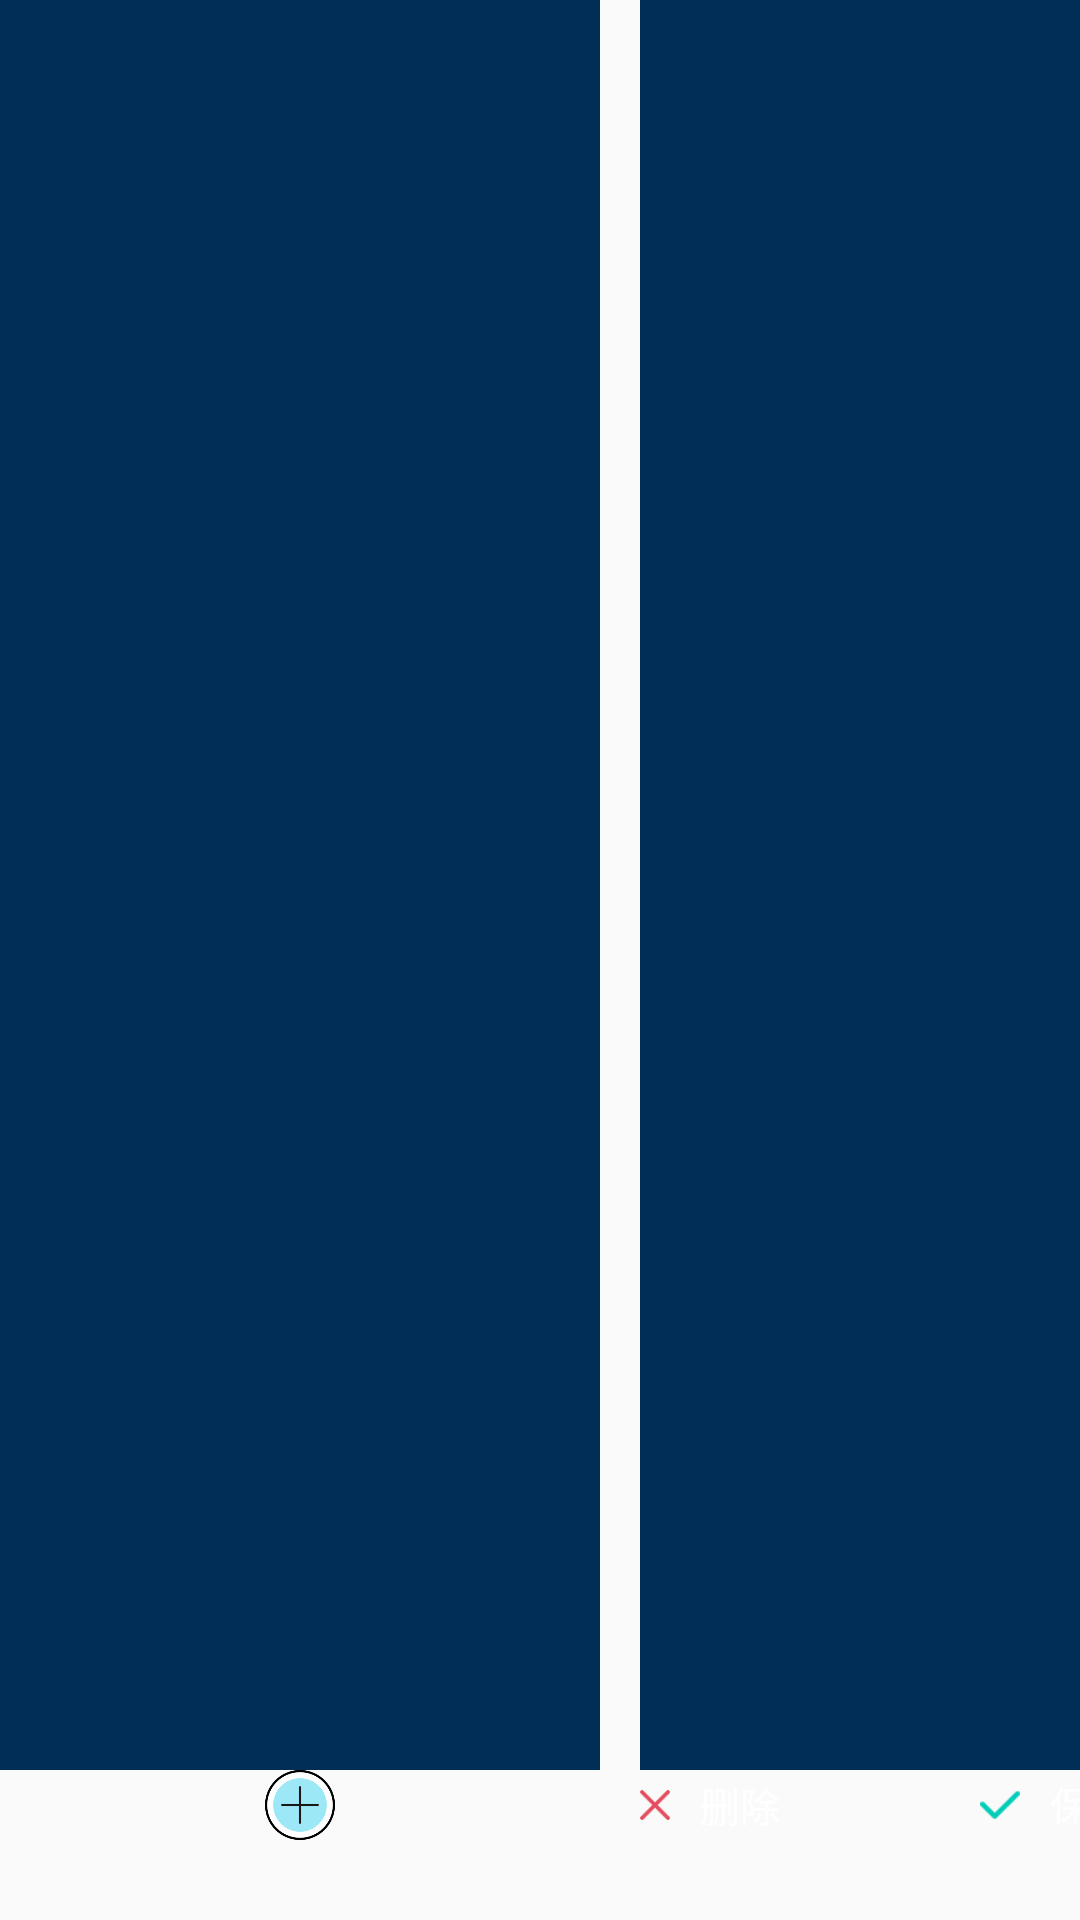

Where icons sit on this 1080*1920 app screen, as (x1, y1, x2, y2):
add: (273, 1778, 327, 1832)
cancel: (640, 1790, 670, 1820)
save: (980, 1791, 1020, 1819)
